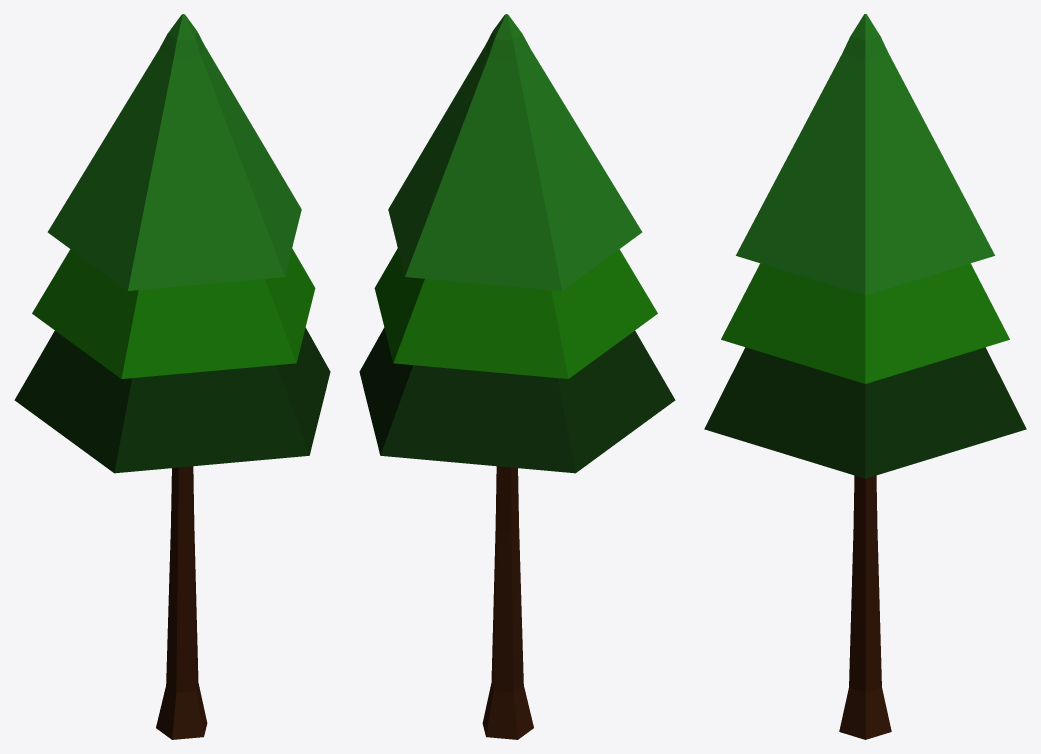
The model's file is pinheirotroncao.FBX.
3 renders of one model, left to right at view 1: azimuth 30°, elevation 25°; view 2: azimuth 150°, elevation 25°; view 3: azimuth 270°, elevation 25°, orthographic.
Parts seen in each view (by area): view 1: Cone001; view 2: Cone001; view 3: Cone001.
Boxes of the visible parts, x1,y1,x2,y2 form: Cone001: (14, 14, 330, 739); Cone001: (359, 14, 675, 739); Cone001: (704, 14, 1026, 739).
Bounding box in the file's own units: 2199 × 5641 × 2312.
